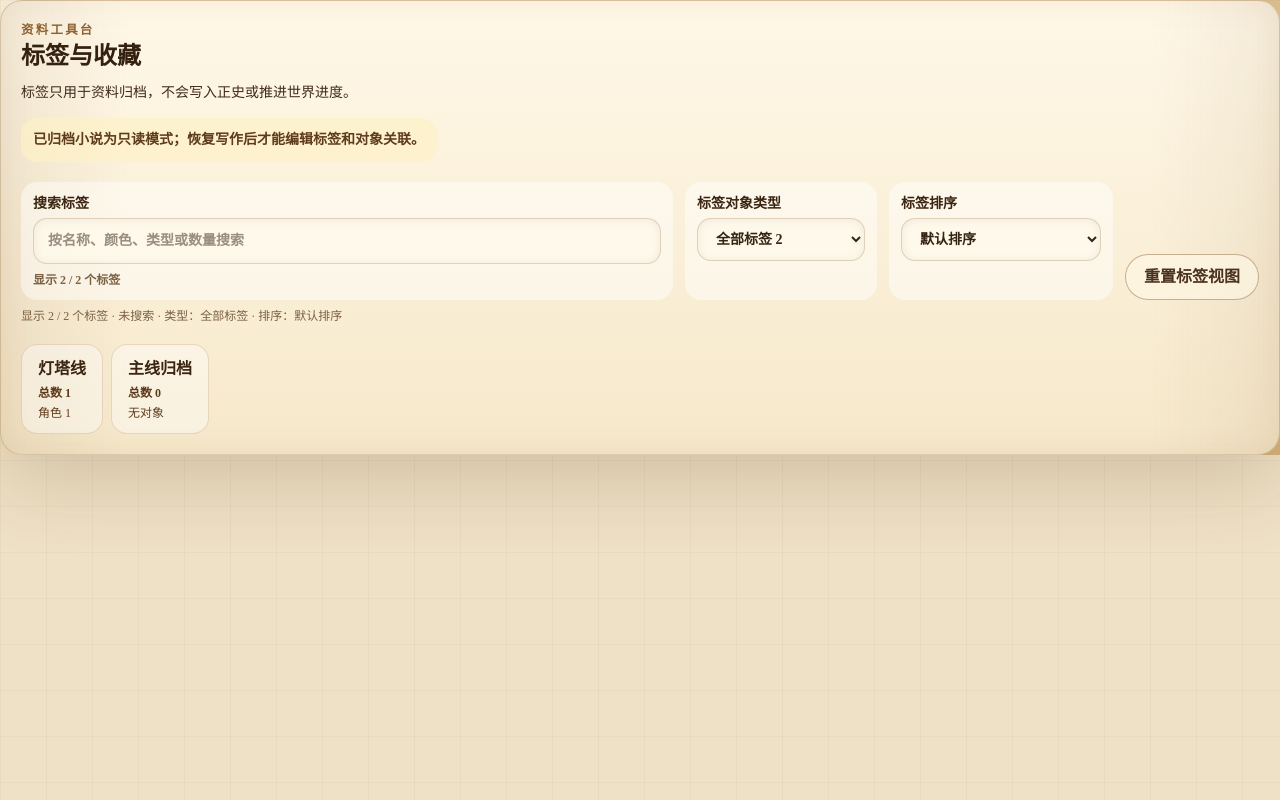
Test: WorldTagsPanel › keeps archived tag collections read-only while preserving tag detail browsing
Expected: the text "灯塔线" is shown, 38,357 -> 86,381
Expected: the text "已归档小说为只读模式；恢复写作后才能编辑标签和对象关联。" is shown, 21,118 -> 437,162
Click the button with aria-label "查看 灯塔线". click: (62, 389)
box: 21,344 -> 103,434
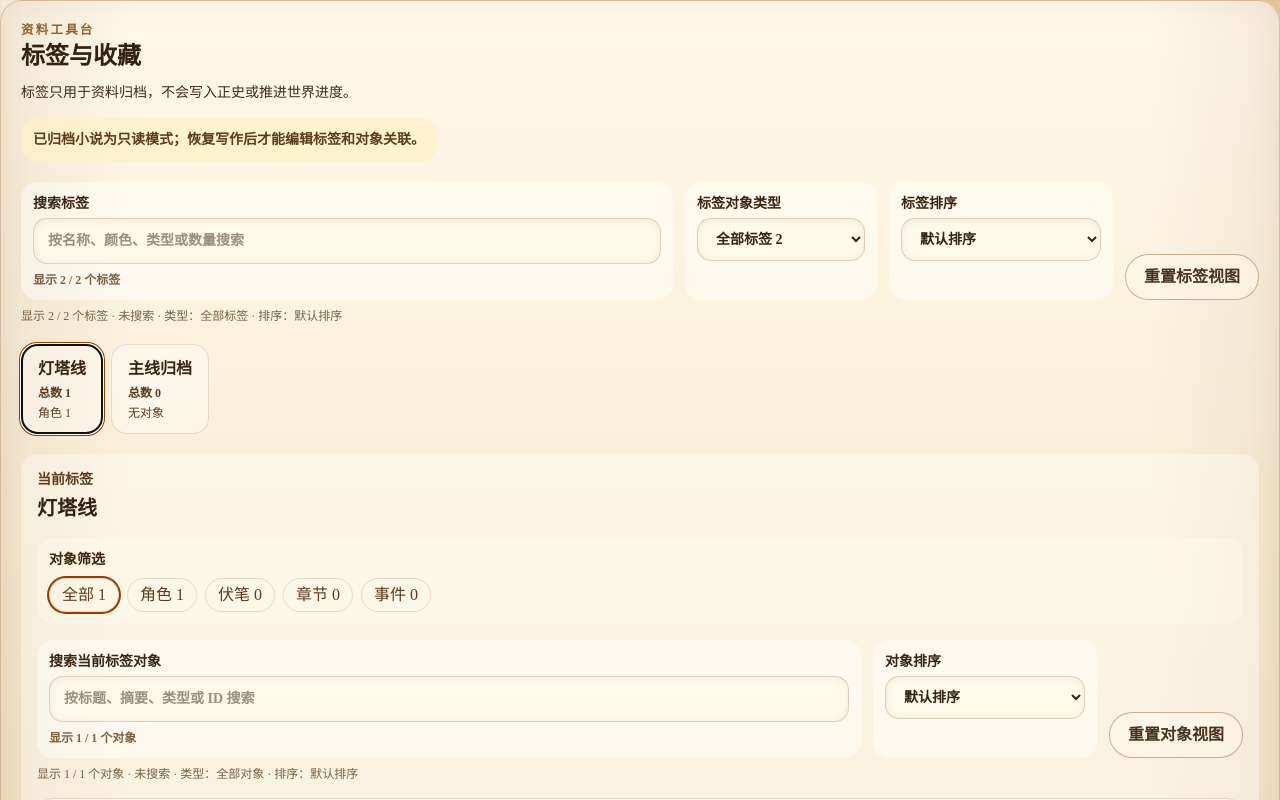
Now the button with aria-label "查看全部对象 1" is shown, box 49,578 -> 119,612
